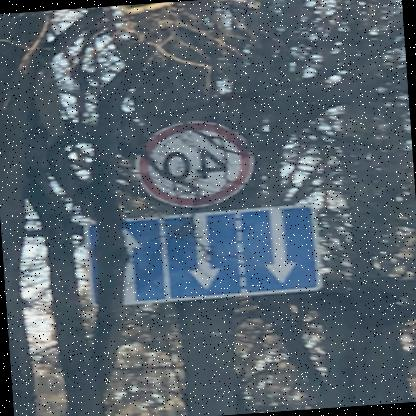speedlimit: (138, 115, 260, 207)
